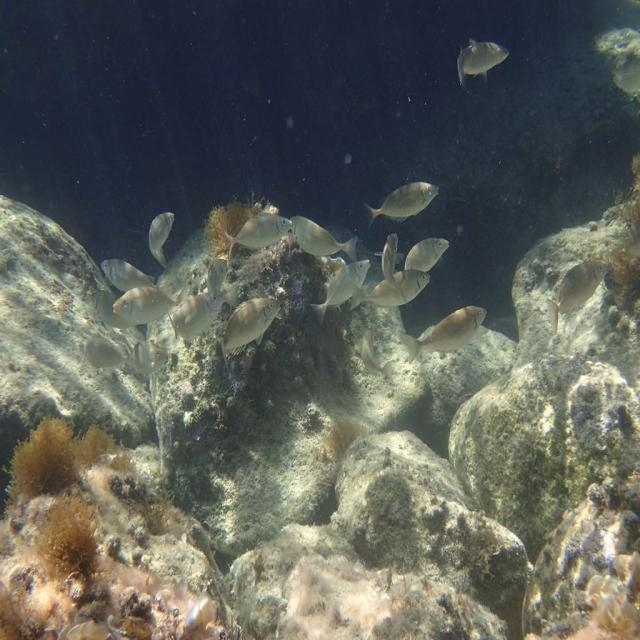Sokar Baligi: (396, 294, 495, 378), (358, 169, 446, 235), (447, 24, 520, 98)
